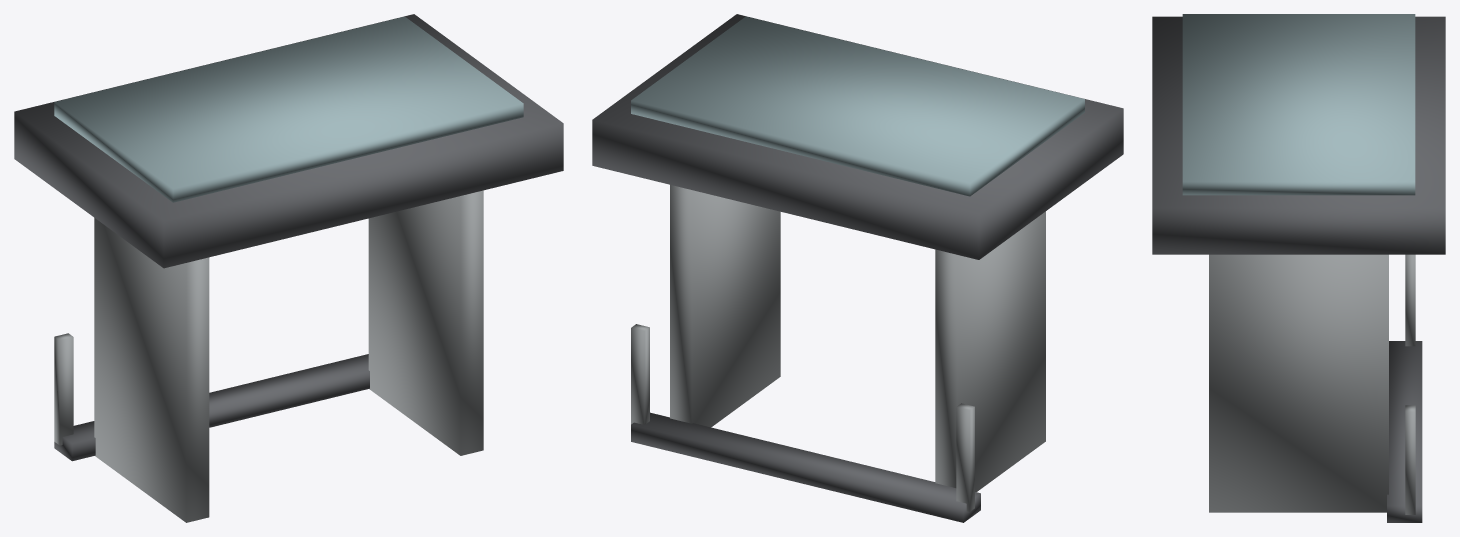
File: light_table__reinforced.glb
The picture shows the model from 3 angles, left to right: view 1: azimuth 30°, elevation 25°; view 2: azimuth 150°, elevation 25°; view 3: azimuth 270°, elevation 25°; orthographic projection. The views are drawn at different scales.
Parts seen in each view (by area): view 1: world; view 2: world; view 3: world.
Boxes of the visible parts, x1,y1,x2,y2 form: world: [14, 14, 563, 522]; world: [592, 14, 1123, 522]; world: [1152, 14, 1445, 522].
Bounding box in the file's own units: 1.08 × 0.9053 × 0.7004.
